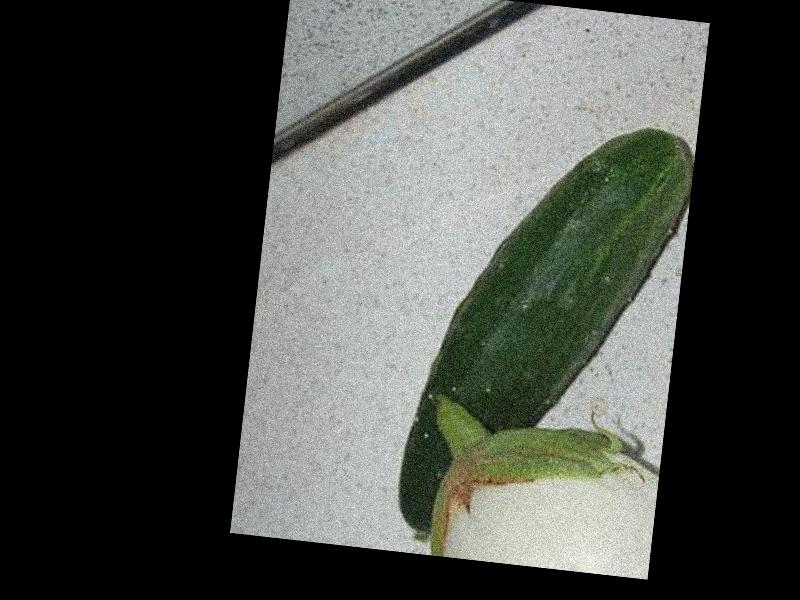Cucumber: (394, 106, 697, 567)
